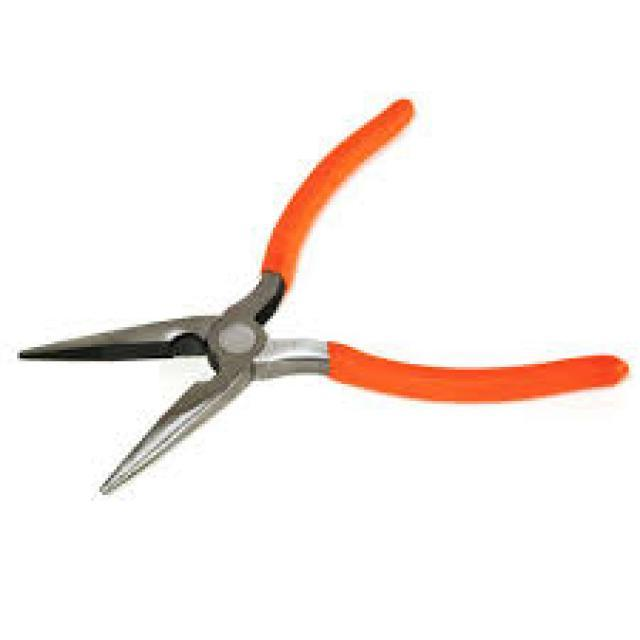pliers: (12, 100, 631, 503)
